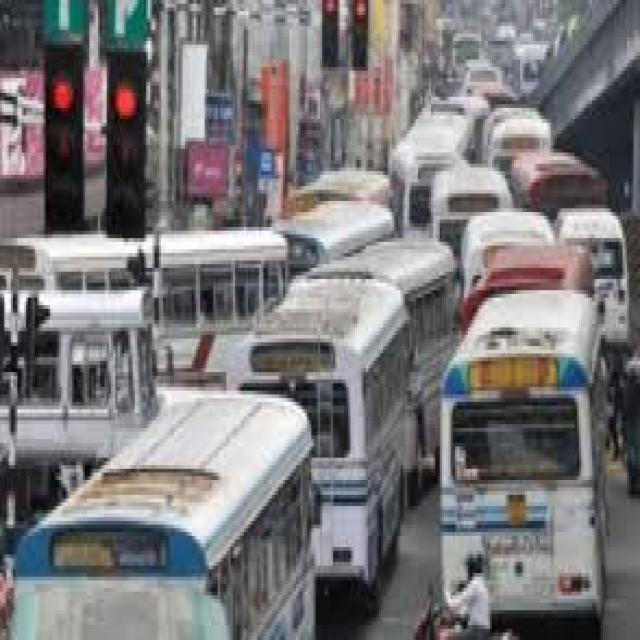bus: (344, 189, 503, 501)
person: (13, 377, 77, 629)
